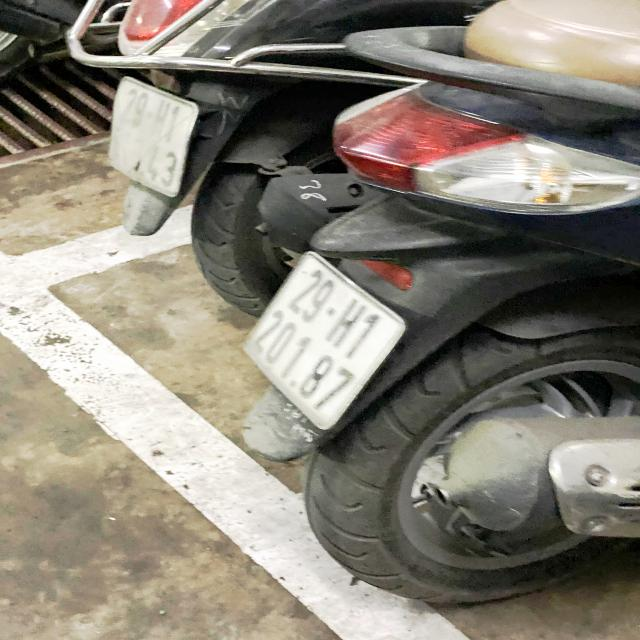license_plate: (233, 248, 411, 435)
